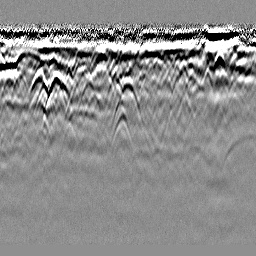cavity: (110, 75, 144, 128)
